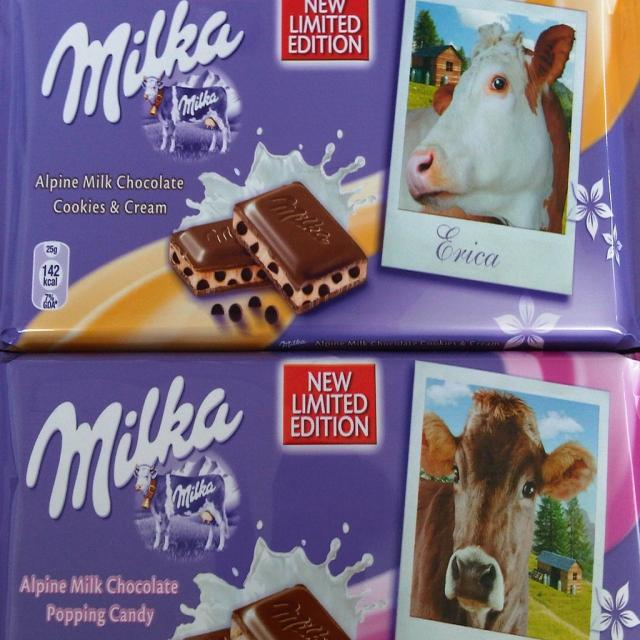milka: (23, 374, 251, 568), (40, 2, 249, 168)
